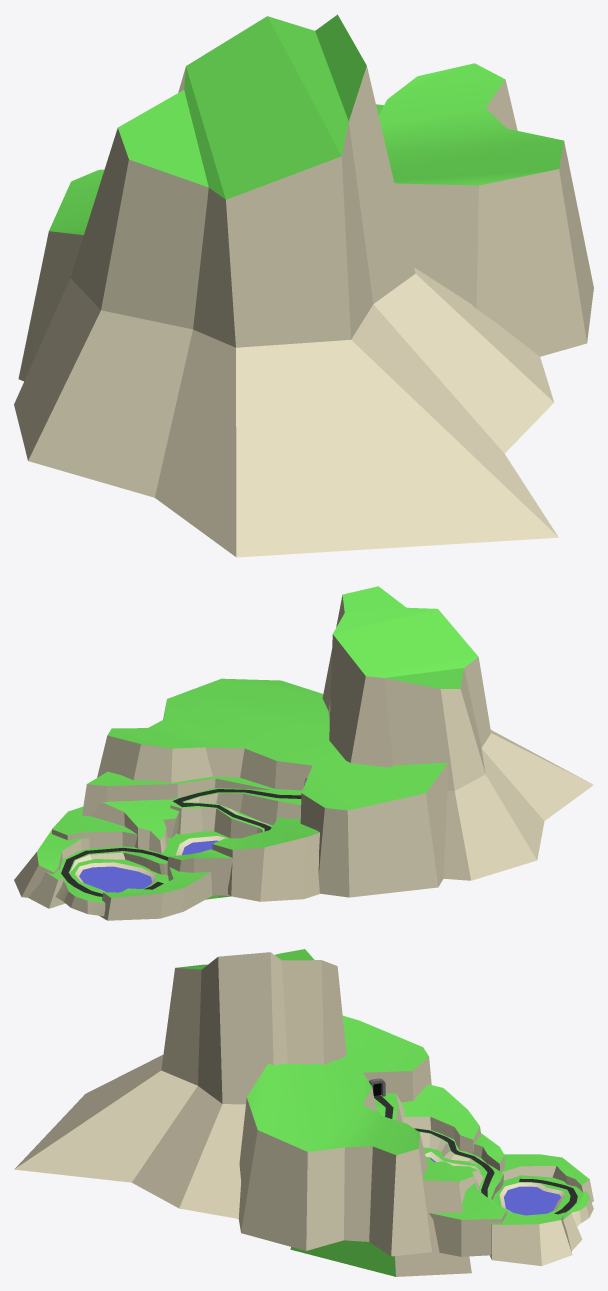
The model's file is IslandModel1.fbx.
3 renders of one model, top to bottom at view 1: azimuth 30°, elevation 25°; view 2: azimuth 150°, elevation 25°; view 3: azimuth 270°, elevation 25°, orthographic. The views are drawn at different scales.
Visible parts, largest first — view 1: Cube.001; view 2: Cube.001; view 3: Cube.001.
Part boxes in pixels (bbox=[...]): Cube.001: bbox=[14, 14, 593, 557]; Cube.001: bbox=[14, 586, 593, 920]; Cube.001: bbox=[14, 949, 593, 1276].
Bounding box in the file's own units: 236 × 147 × 320.
